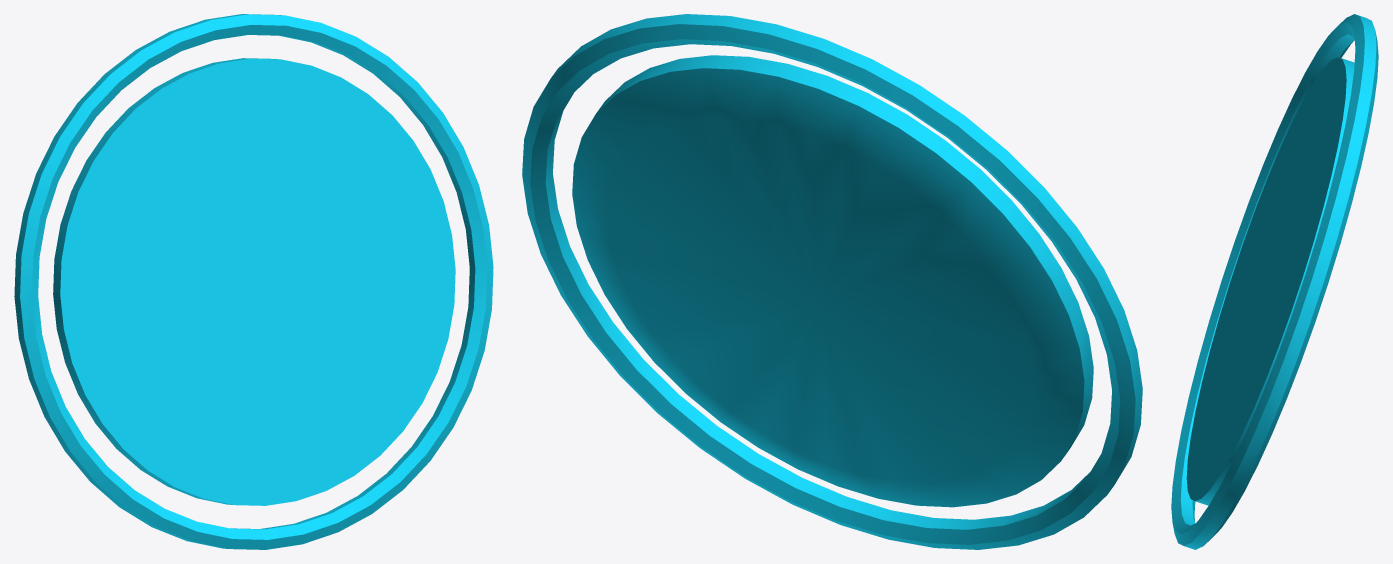
File: EV_CannonGlow.obj
3 renders of one model, left to right at view 1: azimuth 30°, elevation 25°; view 2: azimuth 150°, elevation 25°; view 3: azimuth 270°, elevation 25°, orthographic. The views are drawn at different scales.
Parts seen in each view (by area): view 1: EV_CannonGlow; view 2: EV_CannonGlow; view 3: EV_CannonGlow.
Part boxes in pixels (<box>): EV_CannonGlow: <box>14,14,493,549</box>; EV_CannonGlow: <box>522,14,1142,549</box>; EV_CannonGlow: <box>1171,14,1378,549</box>.
Size of the model in its own units: 1.58 by 1.5 by 0.5856.
